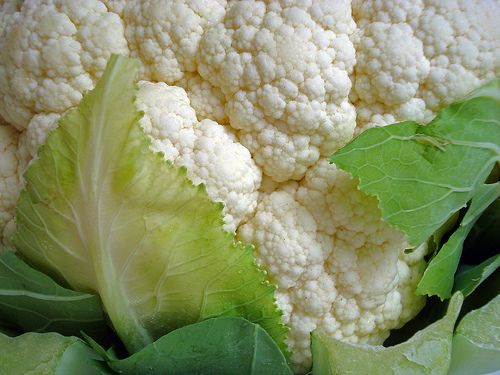cauliflower: (2, 1, 499, 374)
